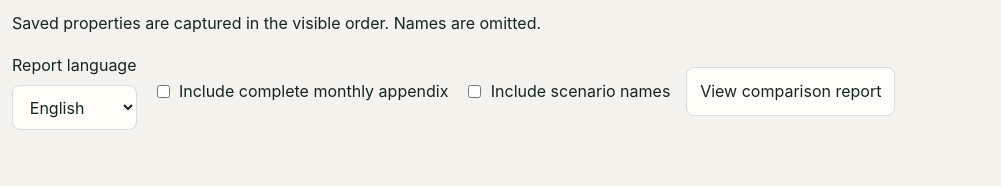
Test case: comparison capture lifecycle › blocks missing saved data at the actual capture boundary
What coordinates should you click on to do the following:
click the button "View comparison report"
I would click on:
 (791, 91)
Its box is [686, 67, 895, 116].
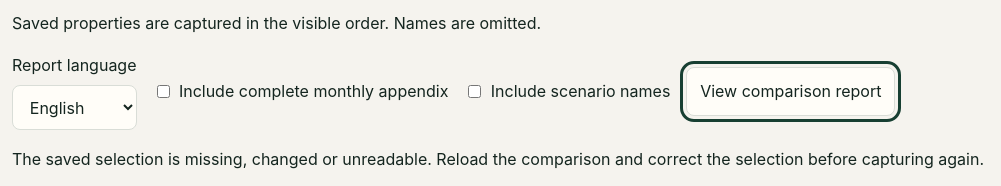
Check: the message shows "Reload the comparison", box [12, 149, 984, 169]
